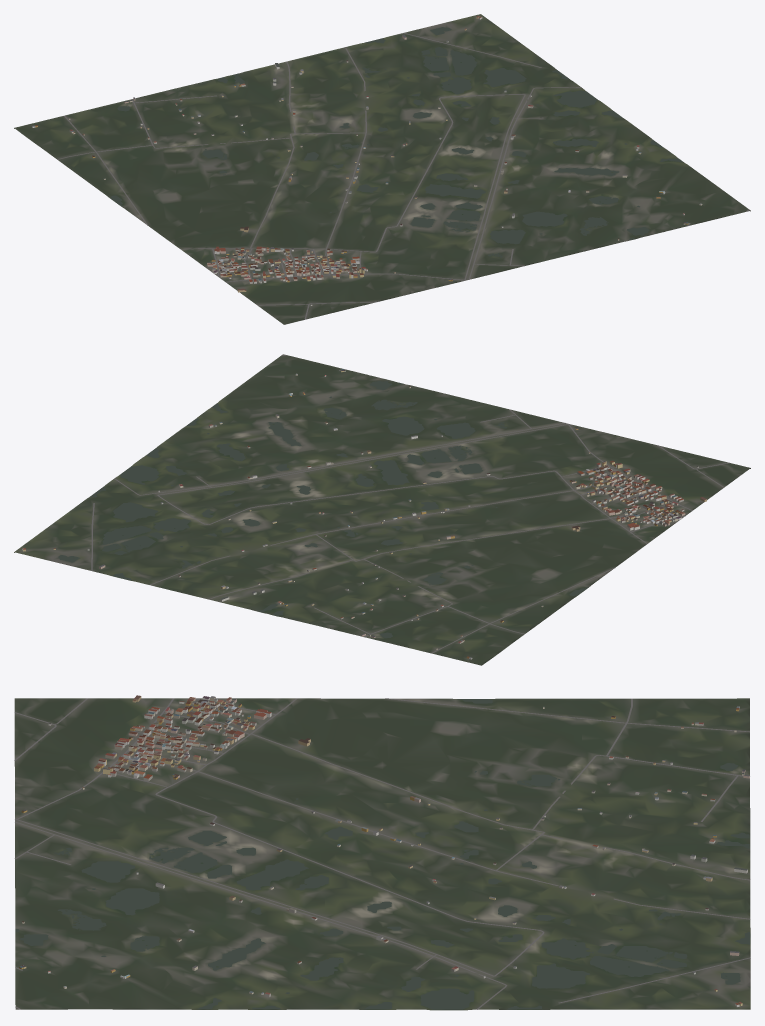
3 views of the same model, one above another, from view 1: azimuth 30°, elevation 25°; view 2: azimuth 150°, elevation 25°; view 3: azimuth 270°, elevation 25° (orthographic). The views are drawn at different scales.
Visible parts, largest first — view 1: ground, water, buildings, roads; view 2: ground, water, buildings, roads; view 3: ground, water, buildings, roads.
Part boxes in pixels (x1,y1,x2,y2): ground: (14, 14, 750, 324); water: (111, 27, 683, 257); buildings: (32, 16, 702, 305); roads: (57, 33, 749, 319); ground: (14, 354, 750, 665); water: (58, 381, 588, 638); buildings: (22, 369, 706, 659); roads: (91, 355, 729, 653); ground: (14, 698, 750, 1010); water: (15, 699, 749, 1009); buildings: (19, 695, 749, 1006); roads: (14, 698, 750, 1009).
Bounding box in the file's own units: 1407 × 15.12 × 1405.
